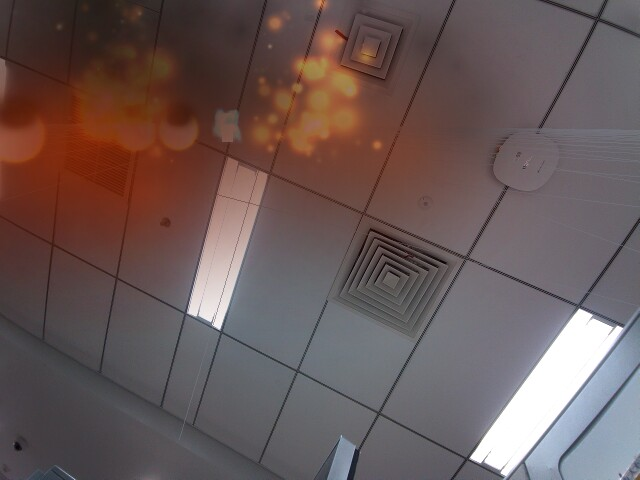fire: (0, 105, 49, 166), (157, 106, 199, 150), (115, 112, 156, 154)
